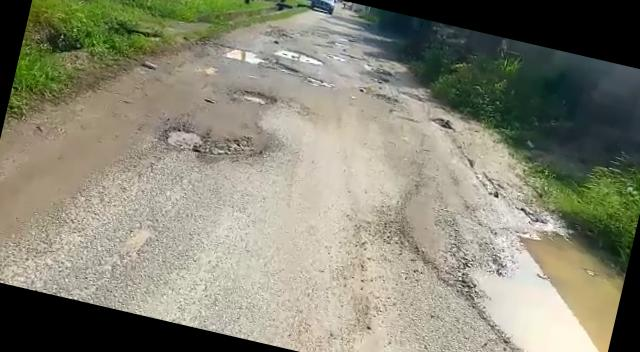pothole: (438, 208, 632, 352), (158, 121, 254, 165), (212, 40, 270, 68), (232, 85, 280, 110), (273, 46, 325, 68), (305, 74, 336, 91)
